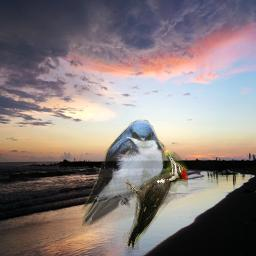Swallow: (79, 119, 166, 227)
Woodpecker: (122, 152, 188, 250)
